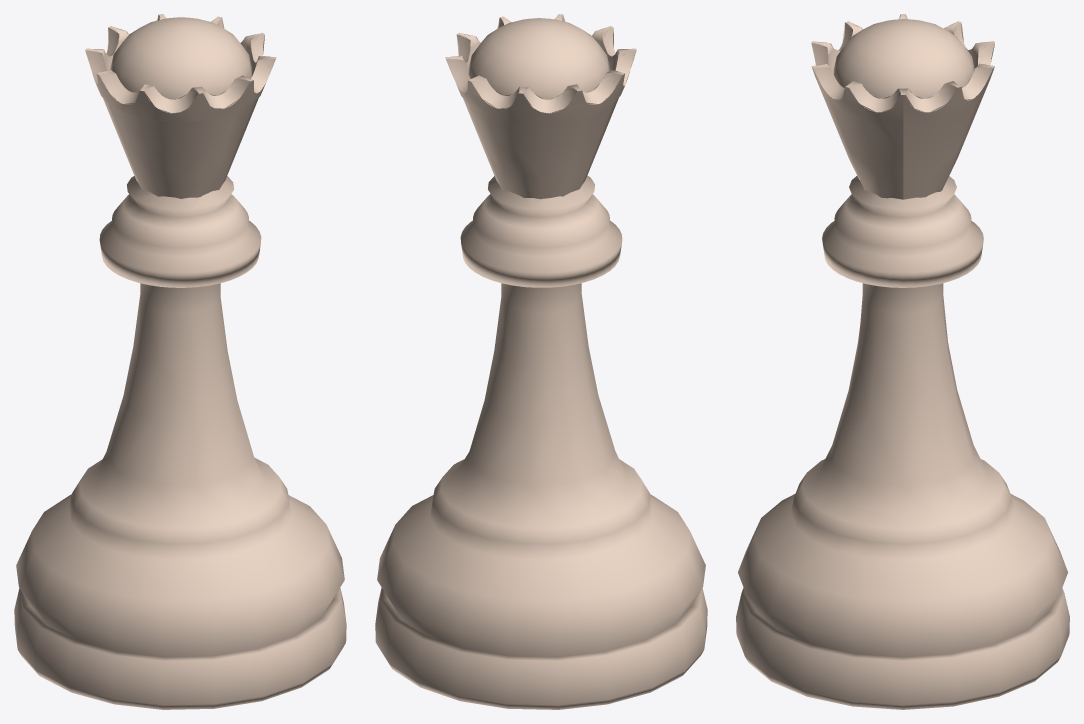
The model's file is Queen.fbx.
The picture shows the model from 3 angles, left to right: view 1: azimuth 30°, elevation 25°; view 2: azimuth 150°, elevation 25°; view 3: azimuth 270°, elevation 25°; orthographic projection.
Visible parts, largest first — view 1: Queen; view 2: Queen; view 3: Queen.
Boxes of the visible parts, left/top/right/bottom form: Queen: left=14, top=14, right=346, bottom=709; Queen: left=375, top=14, right=707, bottom=709; Queen: left=736, top=14, right=1069, bottom=709.
Bounding box in the file's own units: 3.87 × 7.88 × 3.87.
